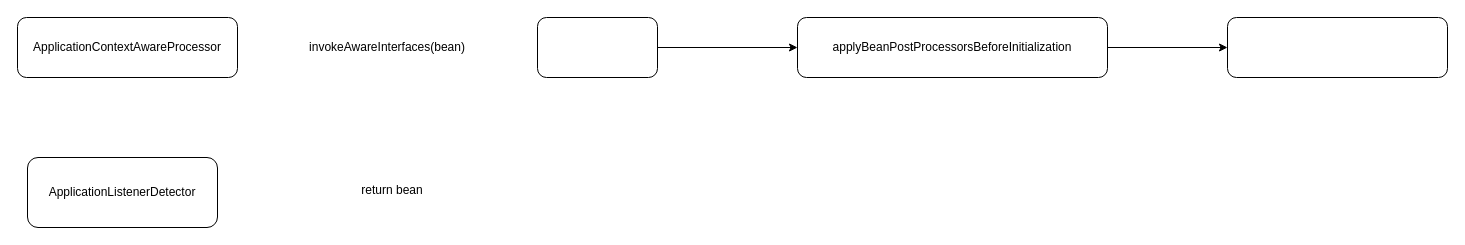
Some shapes in this 1465 by 245 pixel diagram are drawn without their labels. The centre of each missing label's shape, as x and y in pixels:
"initializeBean" belongs at pixel 597 47.
"postProcessBeforeInitialization" belongs at pixel 1337 47.
